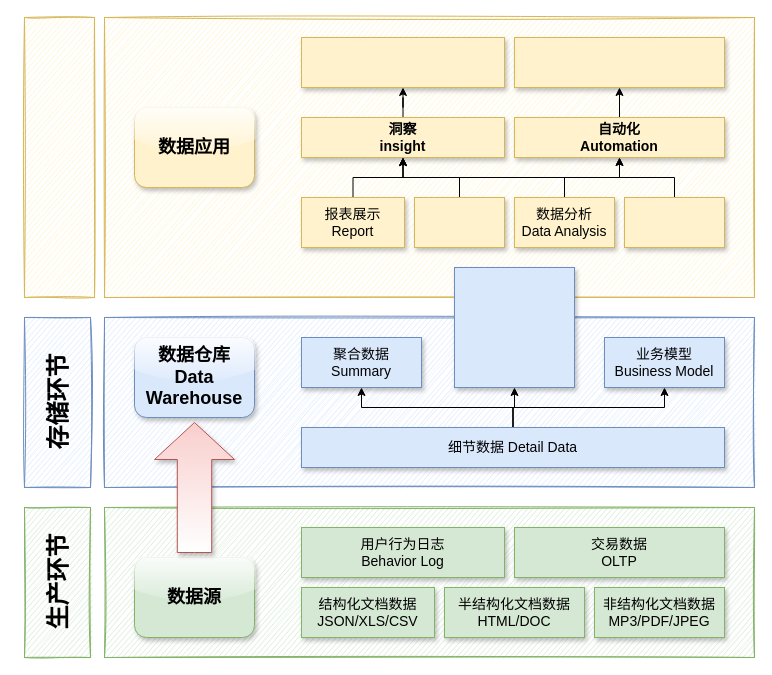
Some shapes in this 772 by 675 pixel diagram are drawn without their labels. Each missing label, with the centre of its shape:
"BI Business Intelligence" goes at point (403, 63).
"ETL" goes at point (195, 488).
"即席查询 Ad-hoc" goes at point (460, 223).
"多维数据模型 OLAP" goes at point (515, 328).
"数据挖掘 Data Mining" goes at point (675, 223).
"消费环节" goes at point (59, 157).
"营销信息系统 Marketing information system" goes at point (620, 63).
